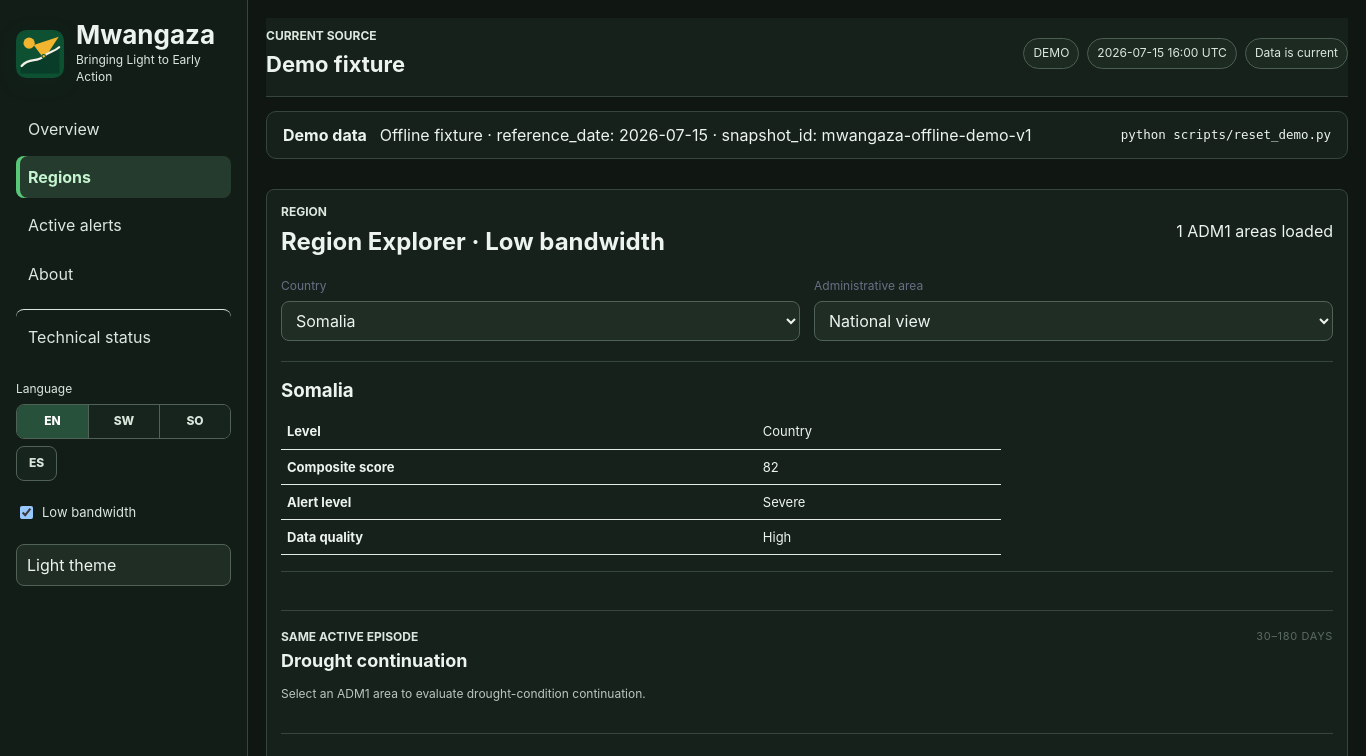
Test case: React PWA dashboard › keeps ADM1 selection and detail in low-bandwidth Region Explorer
Expected: the heading "Region Explorer · Low bandwidth" is shown, [281,225,665,258]
Select "Hiiraan" in the dropdown labelled "Administrative area" at (1074, 321), box [814,301,1333,341]
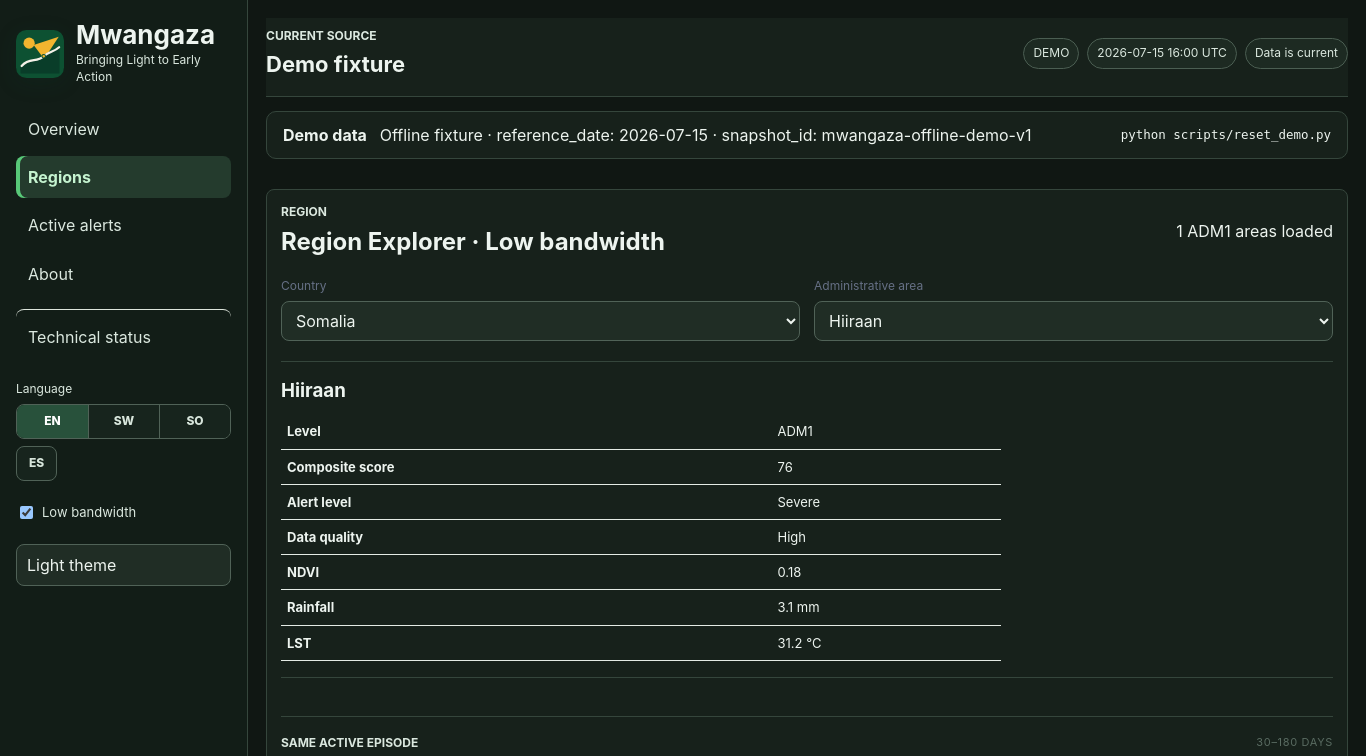
Expected: the heading "Hiiraan" is shown, [281,379,346,402]
Expected: the number of cells "76" is 2
